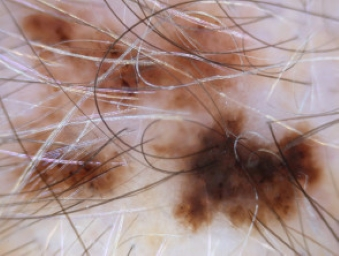seborrheic keratosis: (24, 20, 317, 246)
